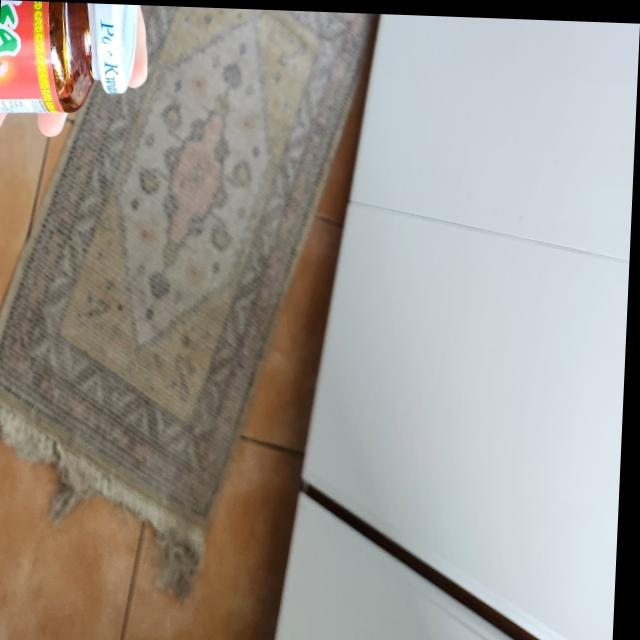laksa paste: (0, 0, 141, 126)
